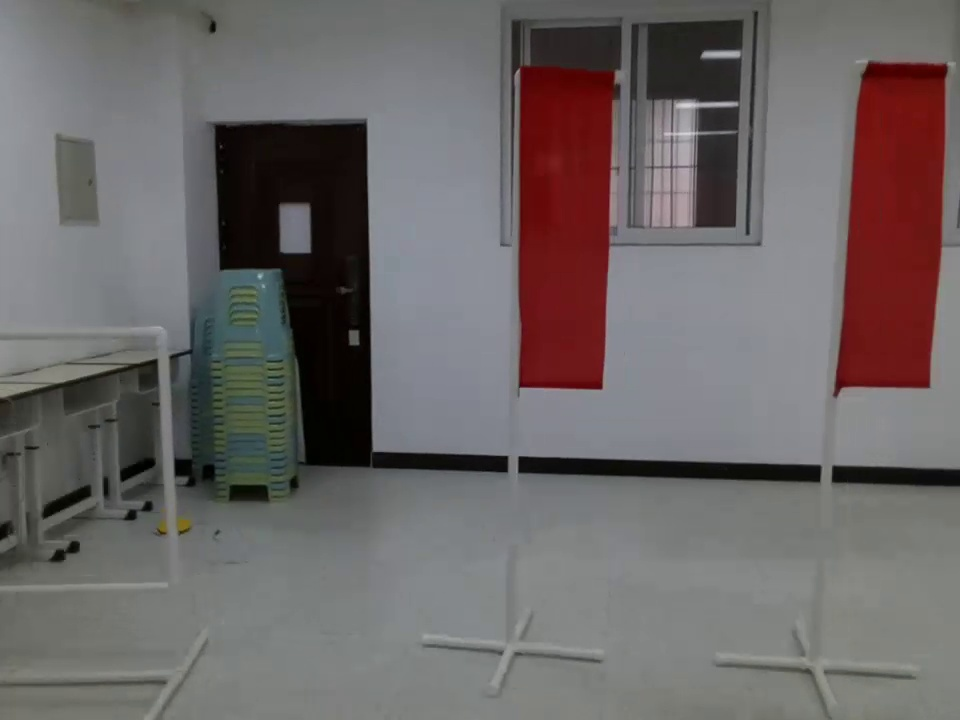qi: (828, 60, 953, 389), (517, 70, 608, 391)
